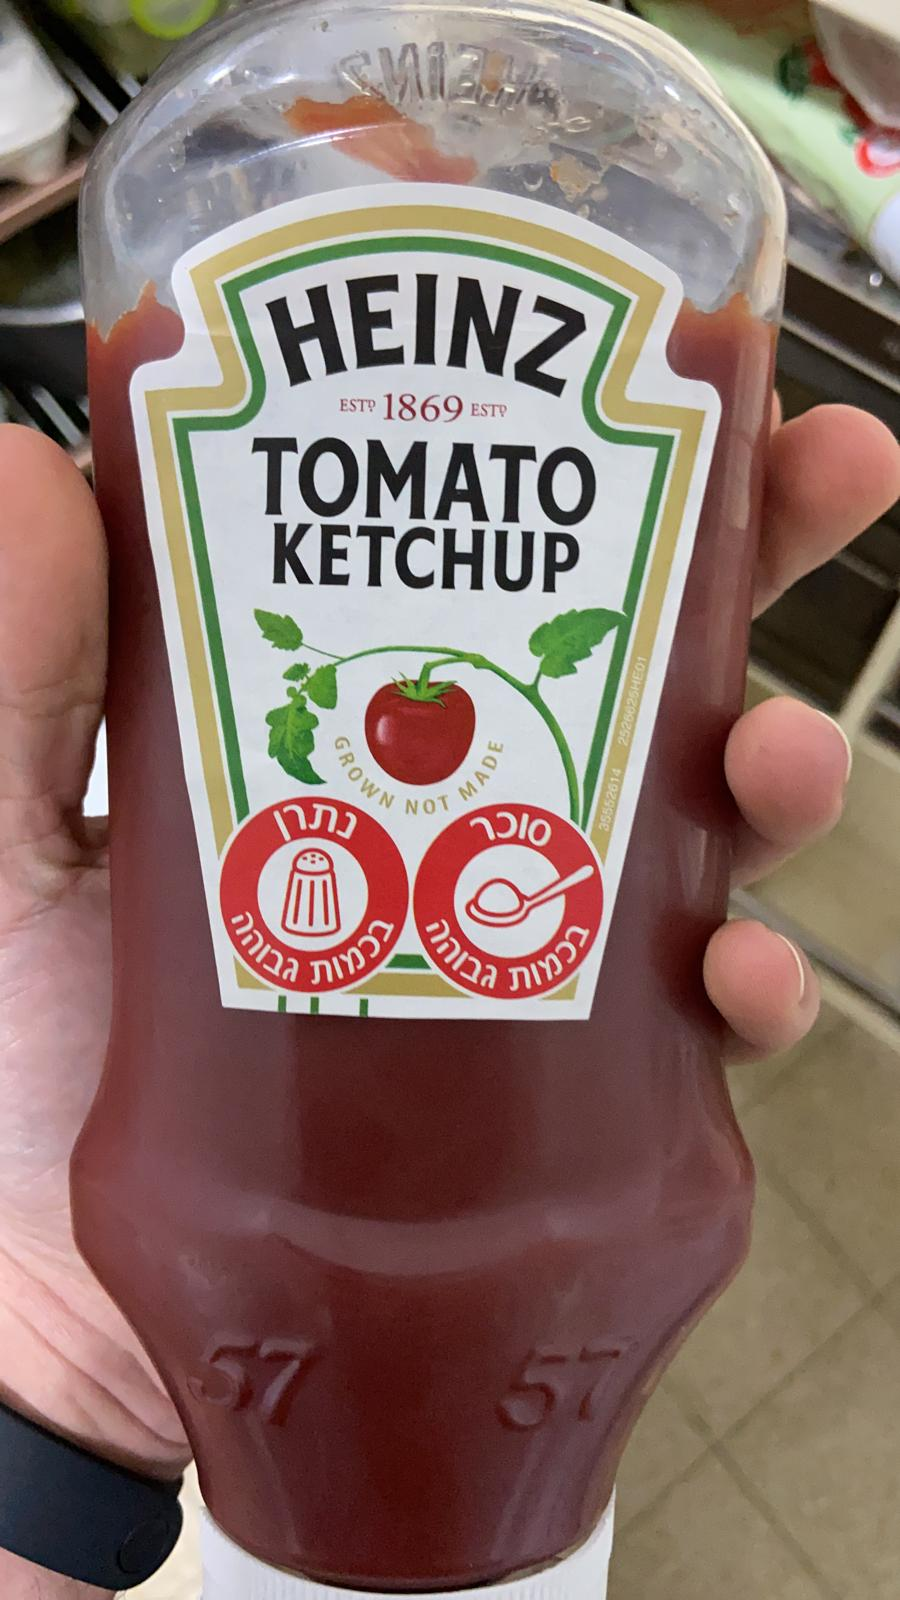salt: (214, 795, 407, 995)
sugar: (409, 800, 607, 1003)
